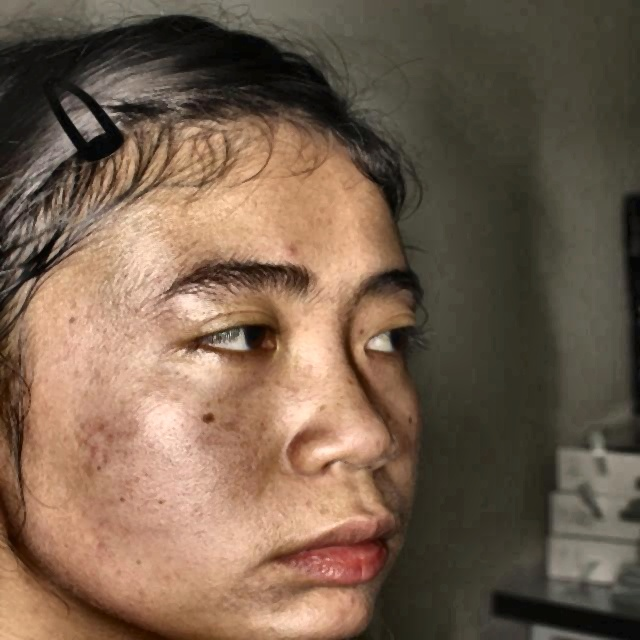comedone: (270, 240, 303, 260)
